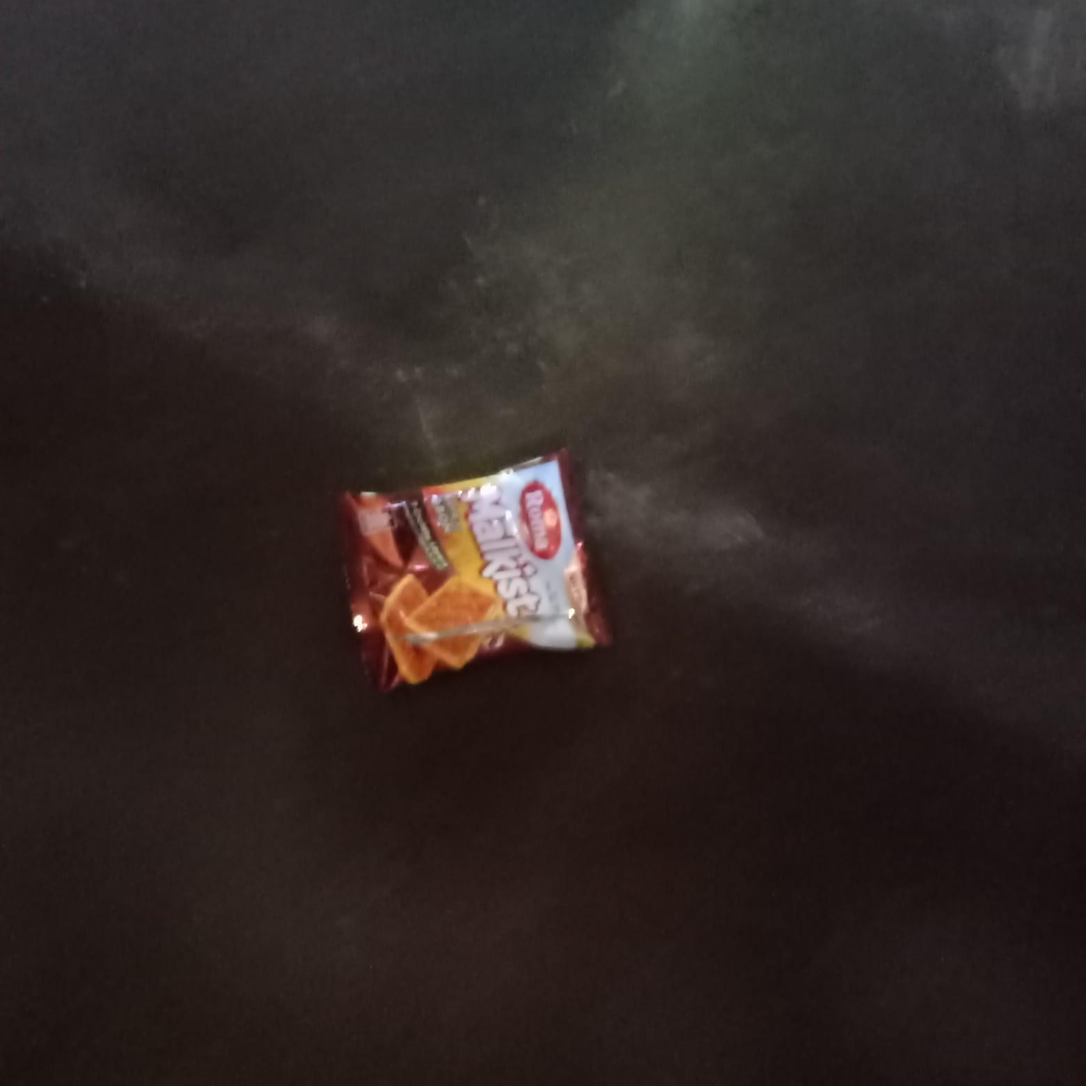Plastik: (335, 443, 614, 694)
